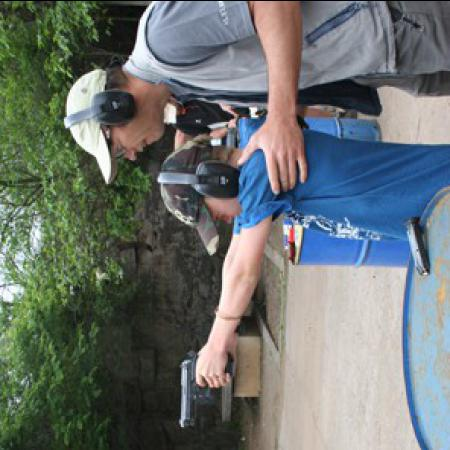Pistol: (178, 346, 232, 426)
